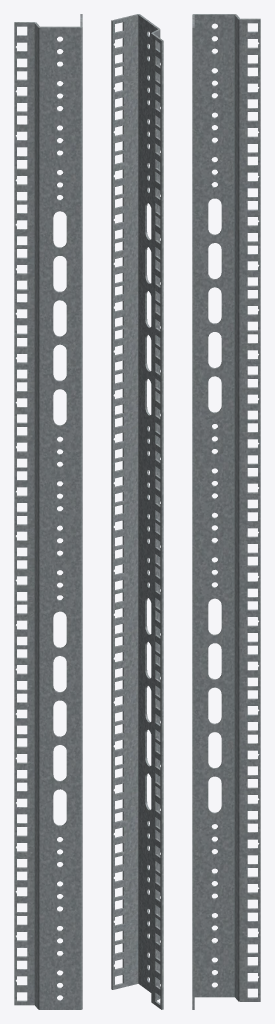
Rendered from rack-post-22u.glb.
3 renders of one model, left to right at view 1: azimuth 90°, elevation 25°; view 2: azimuth 210°, elevation 25°; view 3: azimuth 270°, elevation 25°, orthographic.
Bounding box in the file's own units: 0.0295 × 0.983 × 0.062.
Materials: 1 (1 with a texture image).
